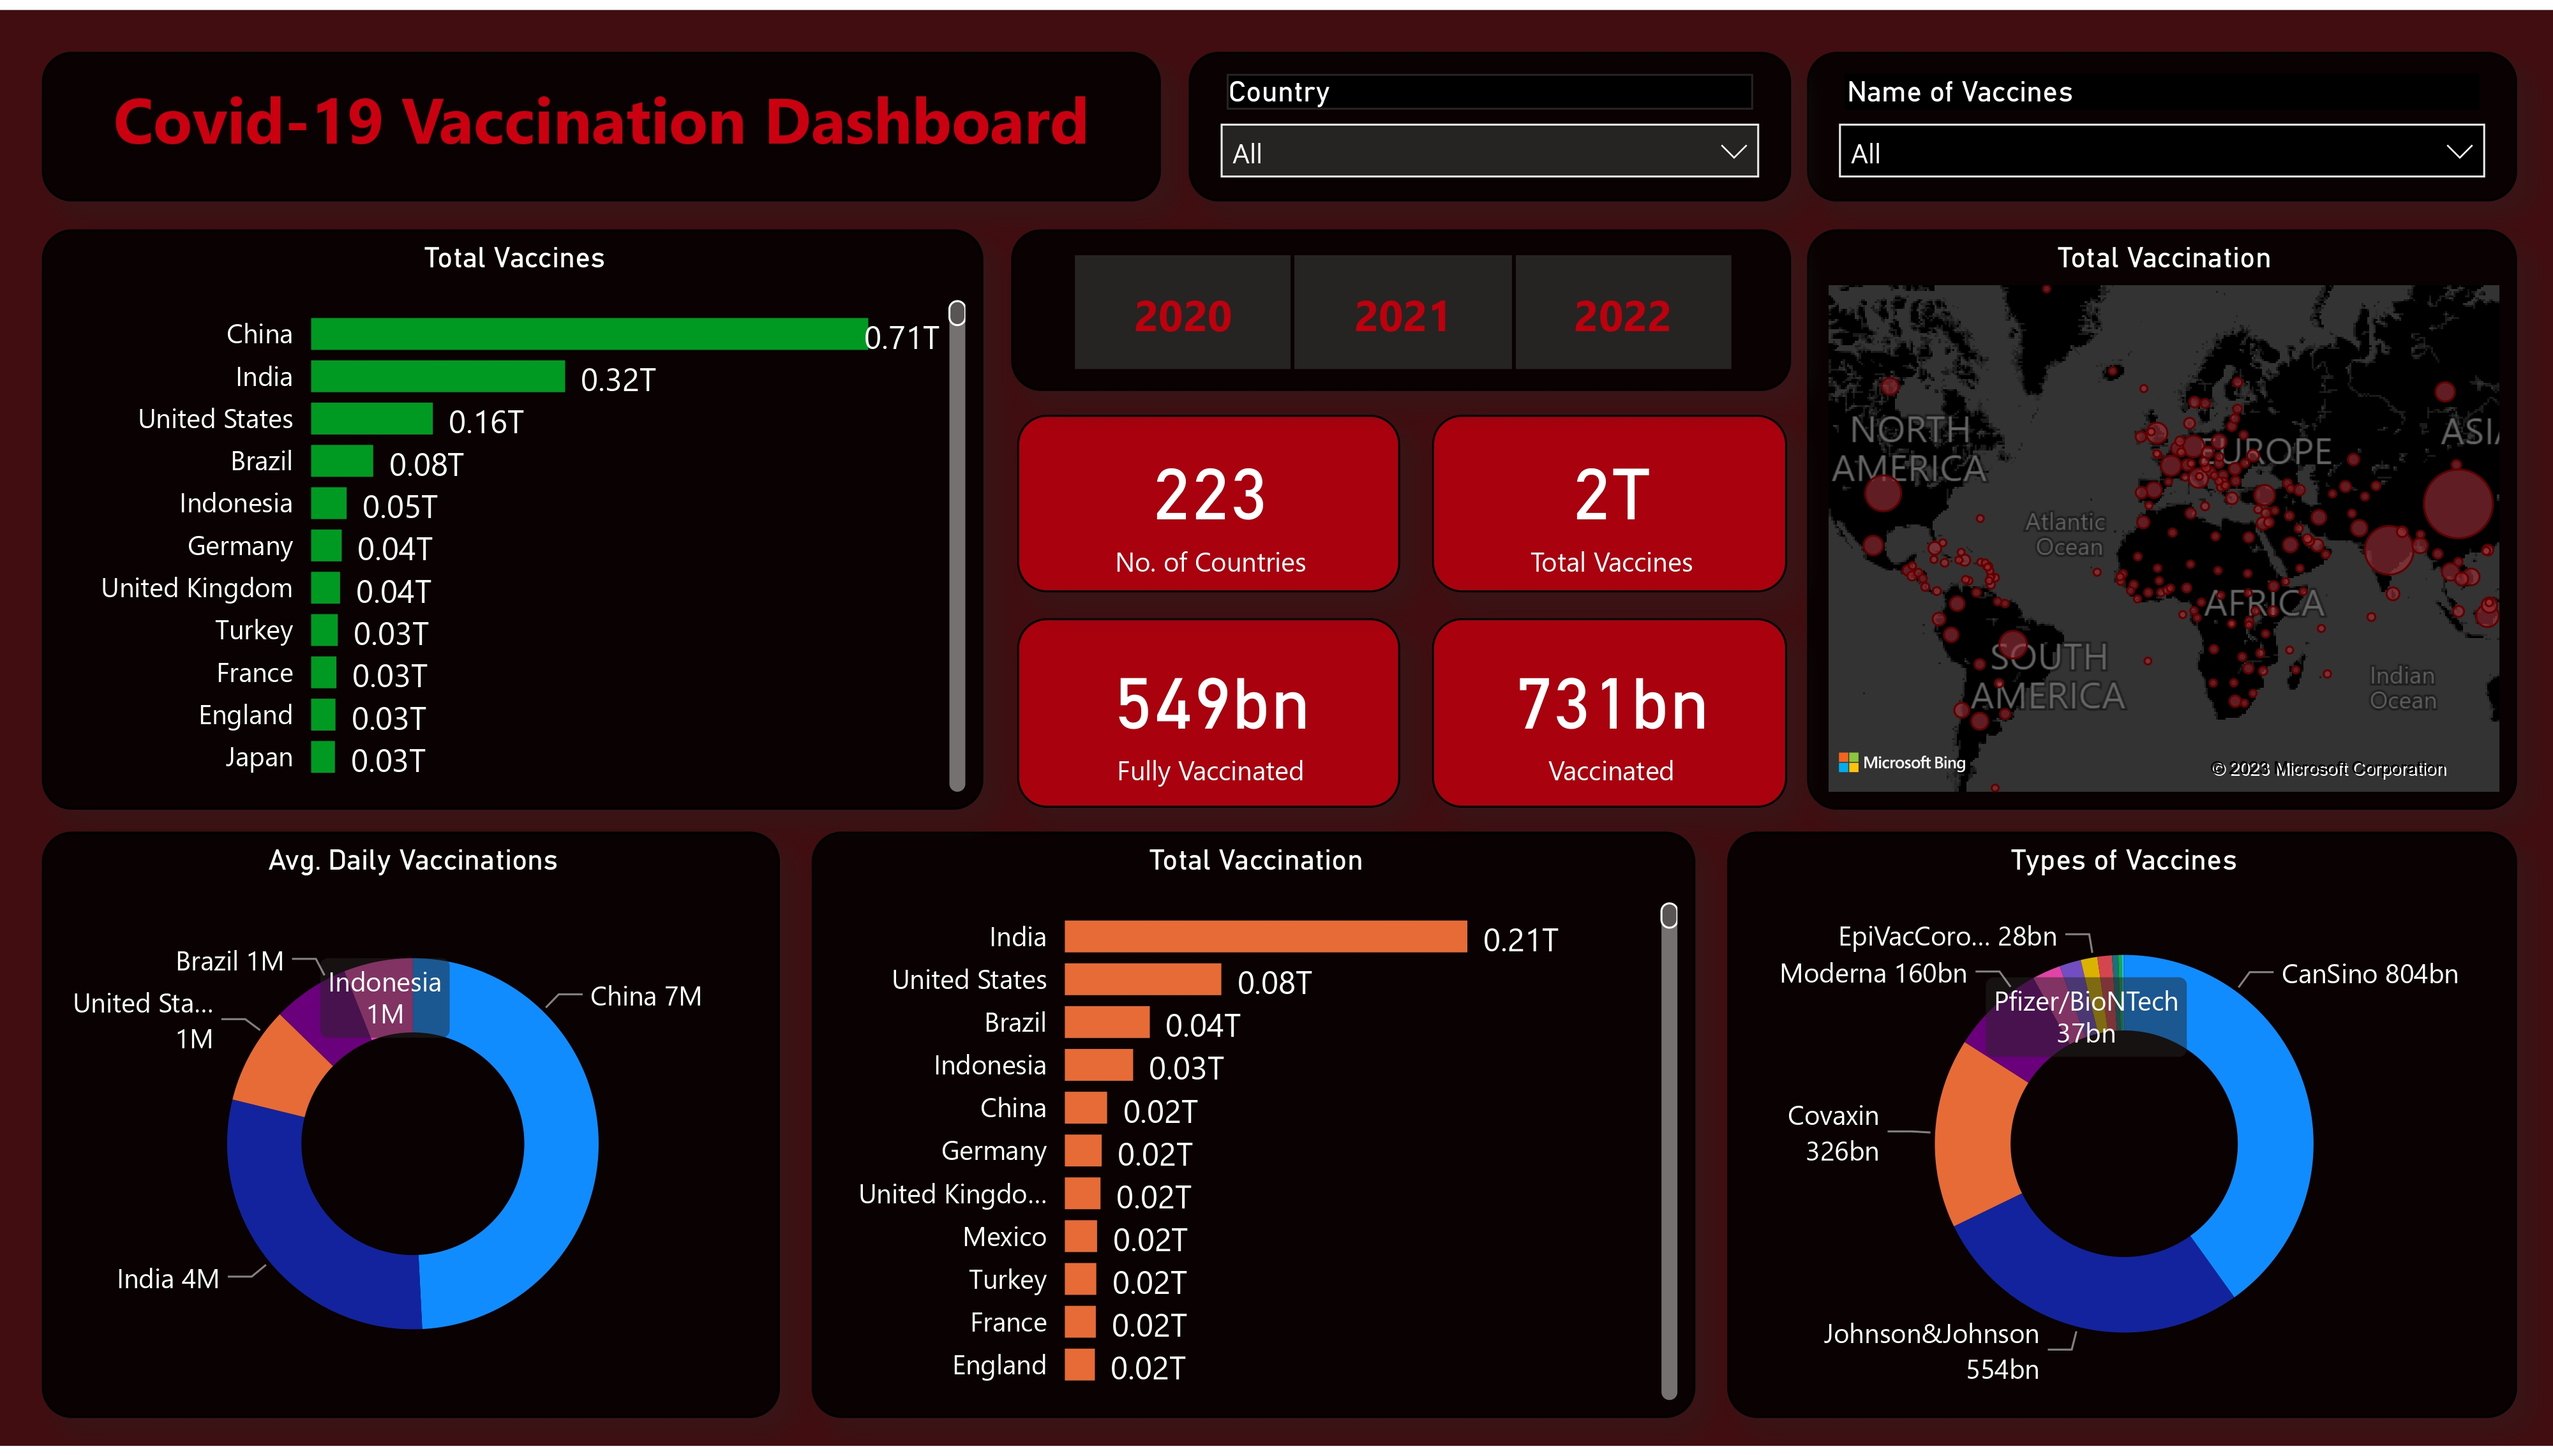

The page's visual inventory and layout, read from the dashboard file:
{"tool":"powerbi","page":{"name":"Covid-19 Vaccination","canvas":[1280,720],"ordinal":0},"visuals":[{"type":"map","title":"Total Vaccination","fields":{"Category":["country_vaccinations.country"],"Size":["Sum(country_vaccinations.Total Vaccinations)"]},"box":[906,109.7,356,290.9],"z":0},{"type":"card","fields":{"Values":["Sum(country_vaccinations.Total Vaccinations)"]},"box":[718.4,203.4,178,89],"z":1000},{"type":"card","fields":{"Values":["Sum(country_vaccinations.People Fully Vaccinated)"]},"box":[510.2,305.2,192.3,95.4],"z":2000},{"type":"card","fields":{"Values":["Count(country_vaccinations.country)"]},"box":[510.2,203.4,192.3,89],"z":3000},{"type":"card","fields":{"Values":["Sum(country_vaccinations.People Vaccinated)"]},"box":[718.4,305.2,178,95.4],"z":4000},{"type":"donutChart","title":"Types of Vaccines","fields":{"Y":["Sum(country_vaccinations.Total Vaccinations)"],"Category":["country_vaccinations.Vaccines 1","country_vaccinations.Vaccines 2","country_vaccinations.Vaccines 3","country_vaccinations.Vaccines 4"]},"box":[866.2,411.7,395.8,294],"z":6000},{"type":"barChart","title":"Total Vaccination","fields":{"Y":["Sum(country_vaccinations.People Vaccinated)"],"Category":["country_vaccinations.country"]},"box":[406.9,411.7,443.4,294],"z":7000},{"type":"barChart","title":"Total Vaccines","fields":{"Category":["country_vaccinations.country"],"Y":["Sum(country_vaccinations.Total Vaccinations)"]},"box":[20.7,109.7,472.1,290.9],"z":8000},{"type":"donutChart","title":"Avg. Daily Vaccinations","fields":{"Category":["country_vaccinations.country"],"Y":["Avg(country_vaccinations.Daily Vaccinations)"]},"box":[20.7,411.7,370.3,294],"z":9000},{"type":"slicer","fields":{"Values":["country_vaccinations.date.Variation.Date Hierarchy.Year"]},"box":[507,109.7,391,81.1],"z":10000},{"type":"slicer","fields":{"Values":["country_vaccinations.Vaccines 4","country_vaccinations.Vaccines 1","country_vaccinations.Vaccines 2","country_vaccinations.Vaccines 3"]},"box":[906,20.7,356,74.7],"z":11000},{"type":"slicer","title":"ccf","fields":{"Values":["country_vaccinations.country"]},"box":[596,20.7,302,74.7],"z":12000},{"type":"textbox","box":[20.7,20.7,561.1,74.7],"z":13000}]}

Visuals, with their boxes in screenshot pixels (x1, y1, x2, y2), scaled from the page's 1280x720 canvas onto the 2553x1456 screenshot:
"Total Vaccination" map: {"x1": 1807, "y1": 222, "x2": 2517, "y2": 810}
card - Sum(country_vaccinations.Total Vaccinations): {"x1": 1433, "y1": 412, "x2": 1788, "y2": 591}
card - Sum(country_vaccinations.People Fully Vaccinated): {"x1": 1017, "y1": 617, "x2": 1401, "y2": 810}
card - Count(country_vaccinations.country): {"x1": 1017, "y1": 412, "x2": 1401, "y2": 591}
card - Sum(country_vaccinations.People Vaccinated): {"x1": 1433, "y1": 617, "x2": 1788, "y2": 810}
"Types of Vaccines" donutChart: {"x1": 1728, "y1": 833, "x2": 2517, "y2": 1427}
"Total Vaccination" barChart: {"x1": 812, "y1": 833, "x2": 1696, "y2": 1427}
"Total Vaccines" barChart: {"x1": 41, "y1": 222, "x2": 983, "y2": 810}
"Avg. Daily Vaccinations" donutChart: {"x1": 41, "y1": 833, "x2": 780, "y2": 1427}
slicer - country_vaccinations.date.Variation.Date Hierarchy.Year: {"x1": 1011, "y1": 222, "x2": 1791, "y2": 386}
slicer - country_vaccinations.Vaccines 4 x country_vaccinations.Vaccines 1: {"x1": 1807, "y1": 42, "x2": 2517, "y2": 193}
"ccf" slicer: {"x1": 1188, "y1": 42, "x2": 1791, "y2": 193}
textbox: {"x1": 41, "y1": 42, "x2": 1160, "y2": 193}
